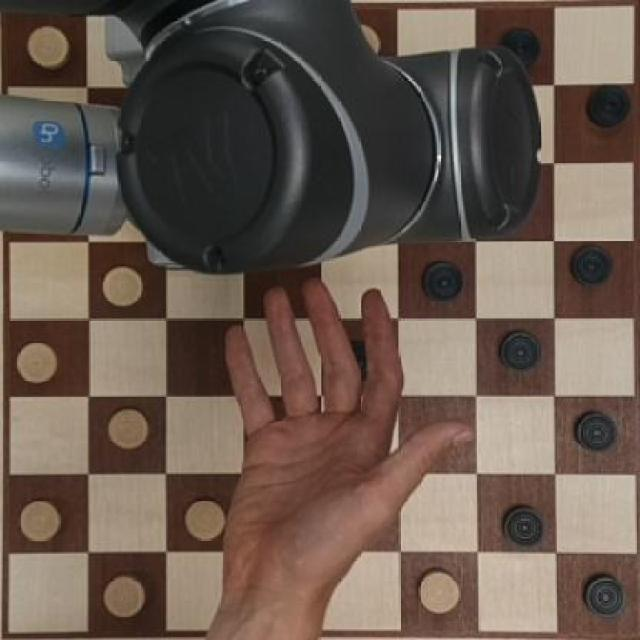black: (563, 242, 616, 298), (565, 404, 620, 457), (499, 495, 546, 551), (582, 568, 630, 621), (495, 326, 542, 377), (585, 77, 629, 129), (420, 257, 463, 306)
white: (12, 496, 70, 549), (104, 402, 153, 460), (12, 337, 62, 391), (22, 21, 72, 73), (178, 493, 228, 545), (414, 566, 464, 618), (101, 571, 150, 624), (98, 260, 142, 316)
